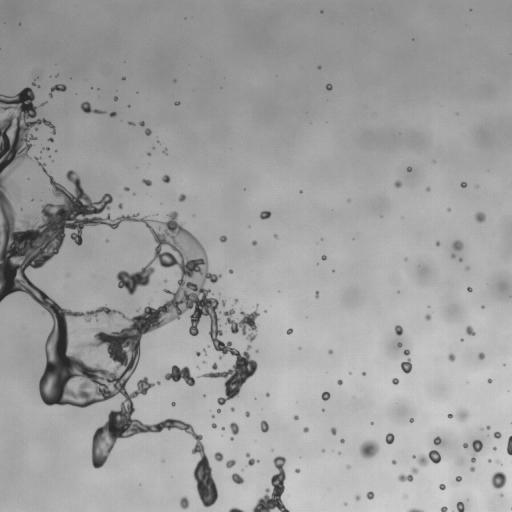droplet: (252, 456, 289, 511), (222, 308, 259, 341), (164, 365, 195, 386), (359, 440, 379, 459), (491, 471, 506, 489), (448, 408, 468, 421), (401, 358, 412, 373), (246, 453, 258, 465), (472, 439, 482, 453), (232, 473, 244, 484), (179, 496, 189, 509), (229, 422, 238, 435), (452, 240, 463, 250), (475, 212, 485, 222), (385, 433, 394, 444), (260, 420, 268, 432), (394, 325, 403, 335), (466, 326, 475, 335), (321, 391, 330, 400), (214, 452, 223, 461), (226, 459, 235, 468), (260, 211, 270, 219), (433, 436, 441, 445), (456, 502, 464, 511), (162, 175, 170, 183), (366, 491, 374, 499), (142, 179, 151, 186), (448, 353, 455, 361), (493, 431, 501, 438), (394, 180, 401, 187), (178, 194, 185, 201), (326, 83, 332, 90), (109, 111, 116, 117), (145, 128, 151, 135), (220, 235, 226, 242), (286, 328, 293, 334), (392, 378, 398, 385), (330, 427, 336, 434), (454, 476, 461, 482), (470, 454, 475, 462), (425, 314, 431, 320), (403, 349, 409, 355), (478, 353, 484, 359), (439, 484, 445, 490), (460, 182, 467, 187), (441, 506, 447, 511), (315, 291, 319, 298), (139, 121, 144, 126), (321, 255, 326, 260), (467, 287, 472, 292), (337, 380, 342, 385), (211, 423, 216, 428), (303, 427, 308, 432), (355, 495, 360, 500), (174, 101, 180, 105), (39, 102, 45, 106), (163, 148, 167, 154), (221, 300, 225, 306), (245, 411, 249, 417), (32, 82, 37, 86), (129, 121, 134, 125), (124, 187, 129, 191), (118, 203, 122, 208), (252, 240, 256, 245), (397, 342, 401, 347), (202, 349, 206, 354), (328, 349, 332, 354), (294, 415, 298, 420), (463, 443, 467, 448), (457, 460, 462, 464), (470, 466, 474, 471), (295, 468, 300, 472), (407, 167, 411, 171), (426, 187, 430, 191), (229, 269, 233, 273), (234, 299, 238, 303), (196, 352, 200, 356), (230, 407, 234, 411), (409, 418, 413, 422), (486, 425, 490, 429), (340, 439, 344, 443), (492, 446, 496, 450), (392, 460, 396, 464), (48, 138, 53, 141), (274, 234, 277, 238), (436, 242, 439, 246), (451, 254, 455, 257), (487, 379, 491, 382), (265, 393, 269, 396), (318, 66, 321, 69), (114, 97, 117, 100), (46, 147, 49, 150), (147, 152, 150, 155), (362, 372, 365, 375), (172, 402, 175, 405), (217, 409, 220, 412), (230, 437, 233, 440), (347, 465, 350, 468), (347, 199, 350, 201), (404, 258, 407, 260), (466, 267, 469, 269), (85, 328, 88, 330), (211, 415, 214, 417), (370, 422, 373, 424), (322, 449, 324, 452), (497, 460, 499, 463), (122, 78, 124, 80), (460, 258, 462, 260), (164, 280, 166, 282), (203, 361, 205, 363), (222, 427, 224, 429), (501, 494, 503, 496)
ligament: (0, 87, 257, 505), (412, 450, 441, 466), (398, 467, 418, 482), (80, 101, 104, 113), (49, 84, 66, 97), (506, 435, 511, 455), (228, 507, 244, 511), (407, 508, 423, 511)
